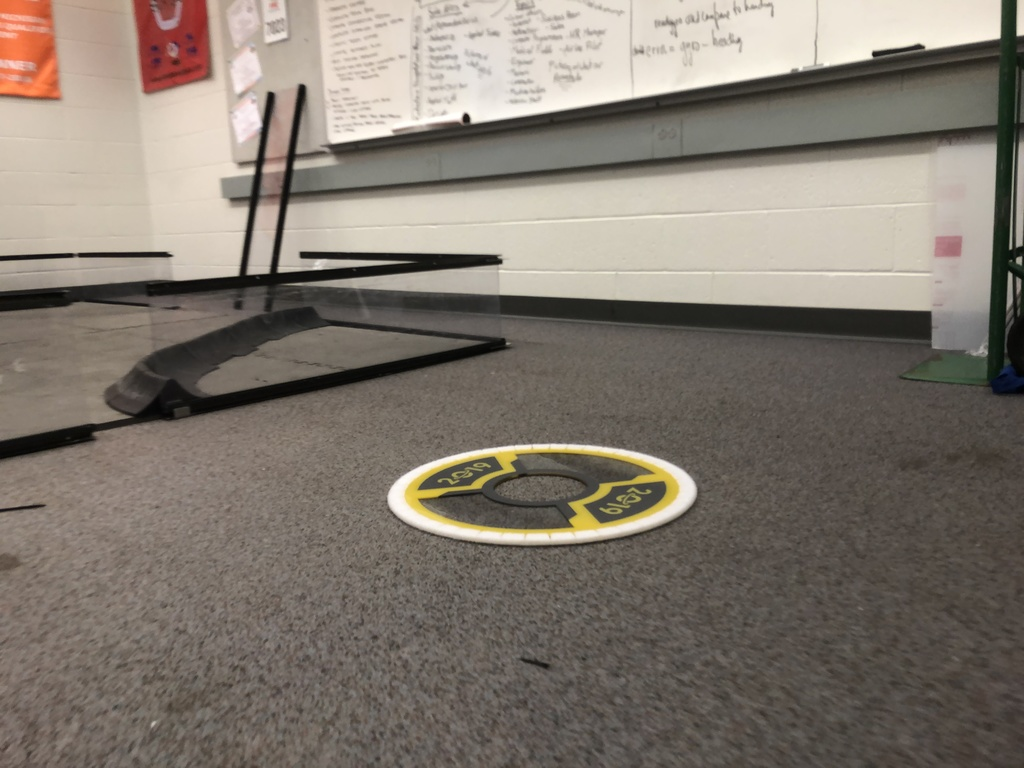hatch_panel: (371, 430, 713, 554)
